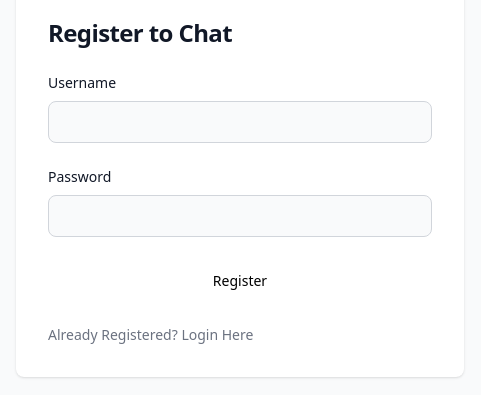
Test: <Register /> › Register redirects to login properly
The image size is (481, 395).
Click the link "Login Here" at [217, 334], box 181,325 -> 253,344
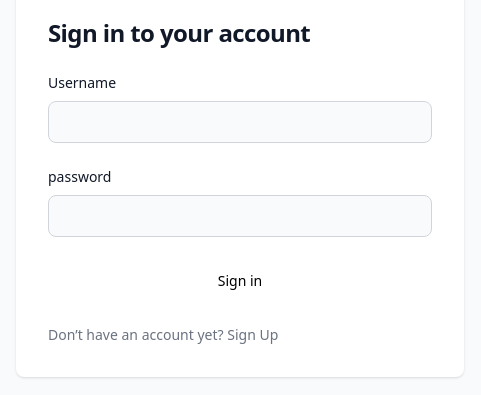
Result: the heading "Sign in to your account" is shown at 48,16 -> 310,49
